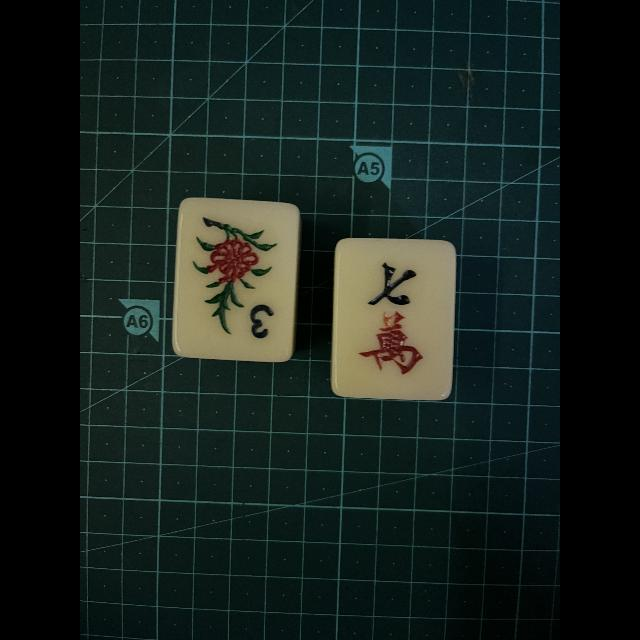c7: (338, 242, 450, 396)
f3-s: (176, 202, 292, 356)
